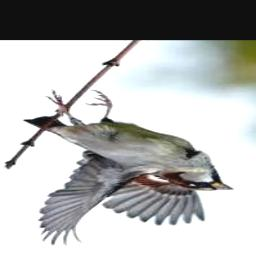Sparrow: (24, 91, 234, 247)
